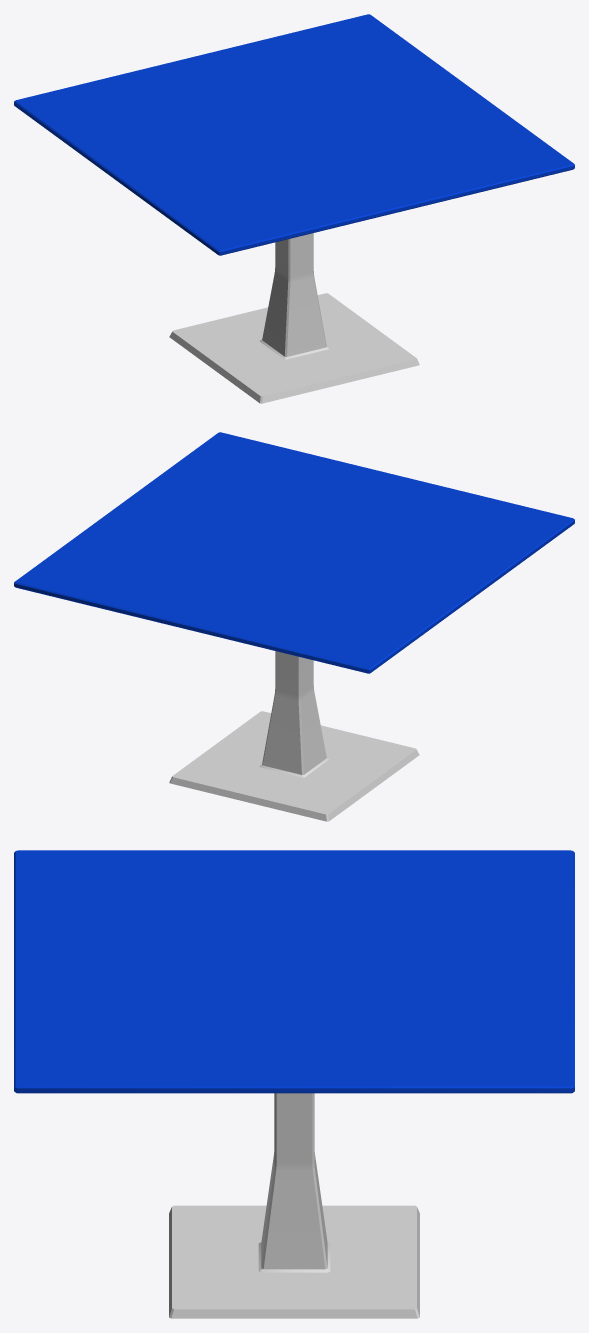
File: Table_V3.fbx
3 renders of one model, top to bottom at view 1: azimuth 30°, elevation 25°; view 2: azimuth 150°, elevation 25°; view 3: azimuth 270°, elevation 25°, orthographic. The views are drawn at different scales.
Parts seen in each view (by area): view 1: Table_V3; view 2: Table_V3; view 3: Table_V3.
Part boxes in pixels (x1,y1,x2,y2): Table_V3: [14, 14, 574, 403]; Table_V3: [14, 432, 574, 821]; Table_V3: [14, 850, 574, 1318].
Size of the model in its own units: 126 by 73.58 by 126.
